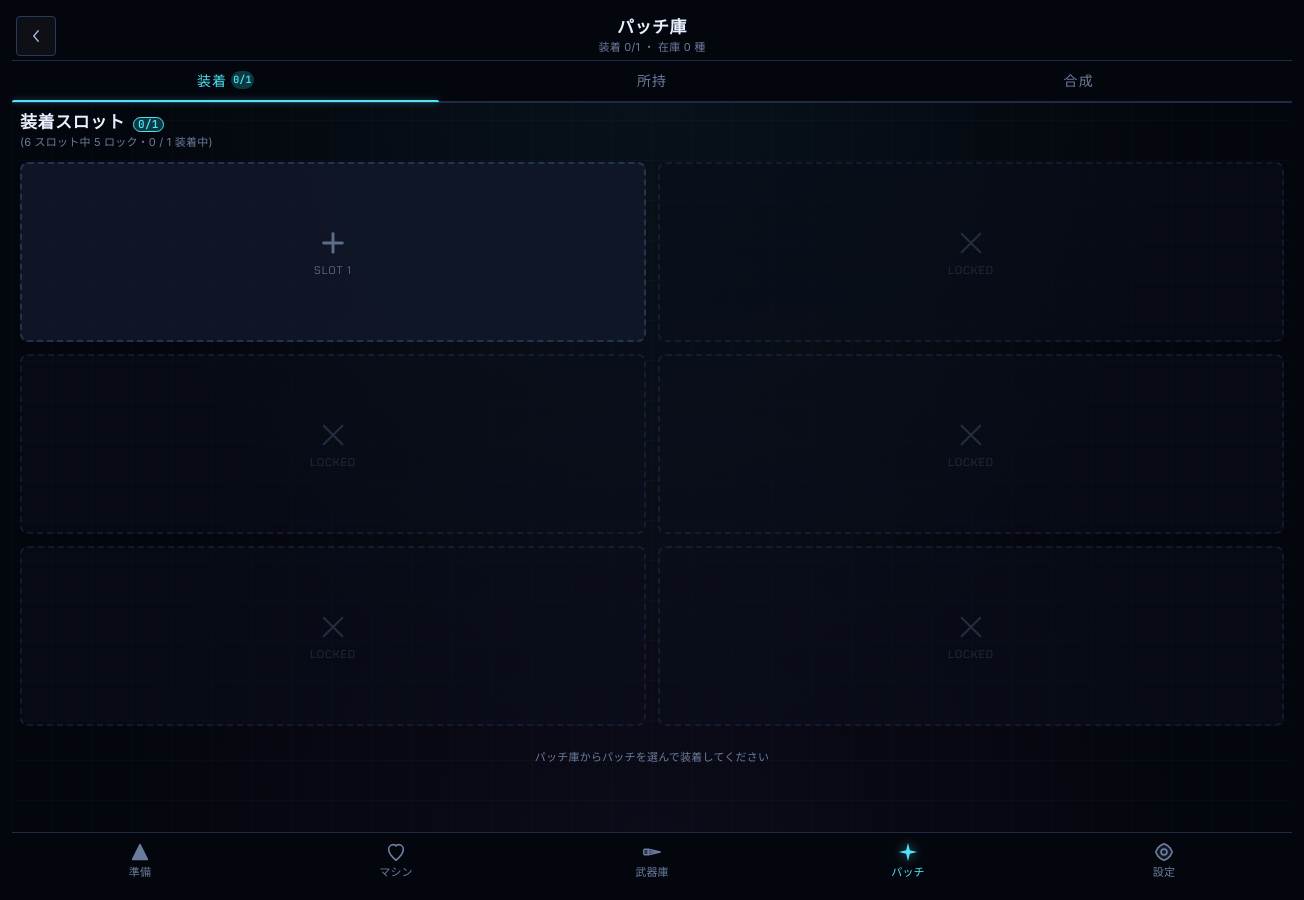
Scenario: PatchScreen › タブ切替 › 「装着」タブに戻すと「装着スロット」が再表示される
# 所持タブに移動してから装着に戻る
Click the tab "所持" at (652,81), box [439,61,865,101]
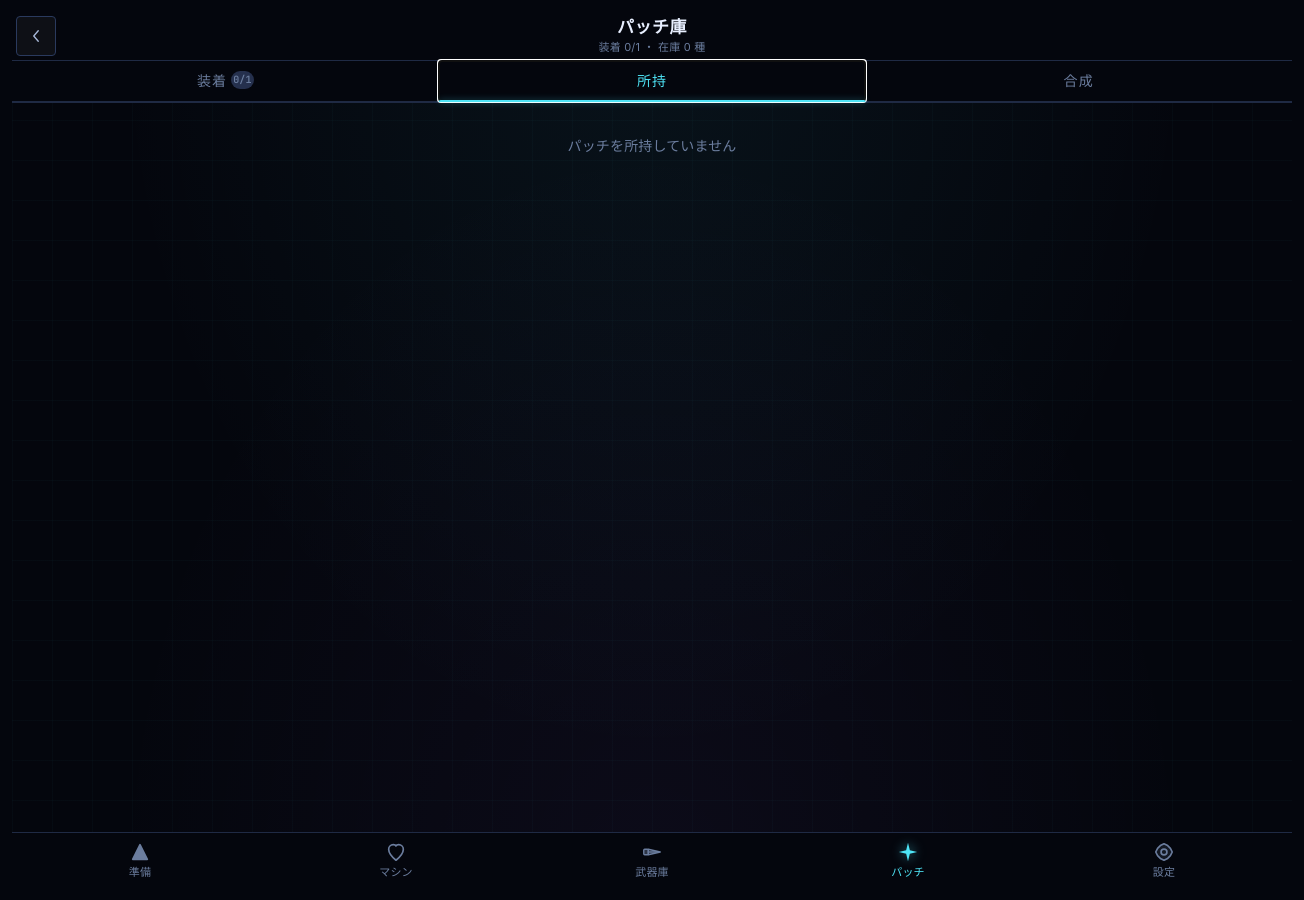
Click the tab "装着 0/1" at (225,81), box [12,61,439,101]
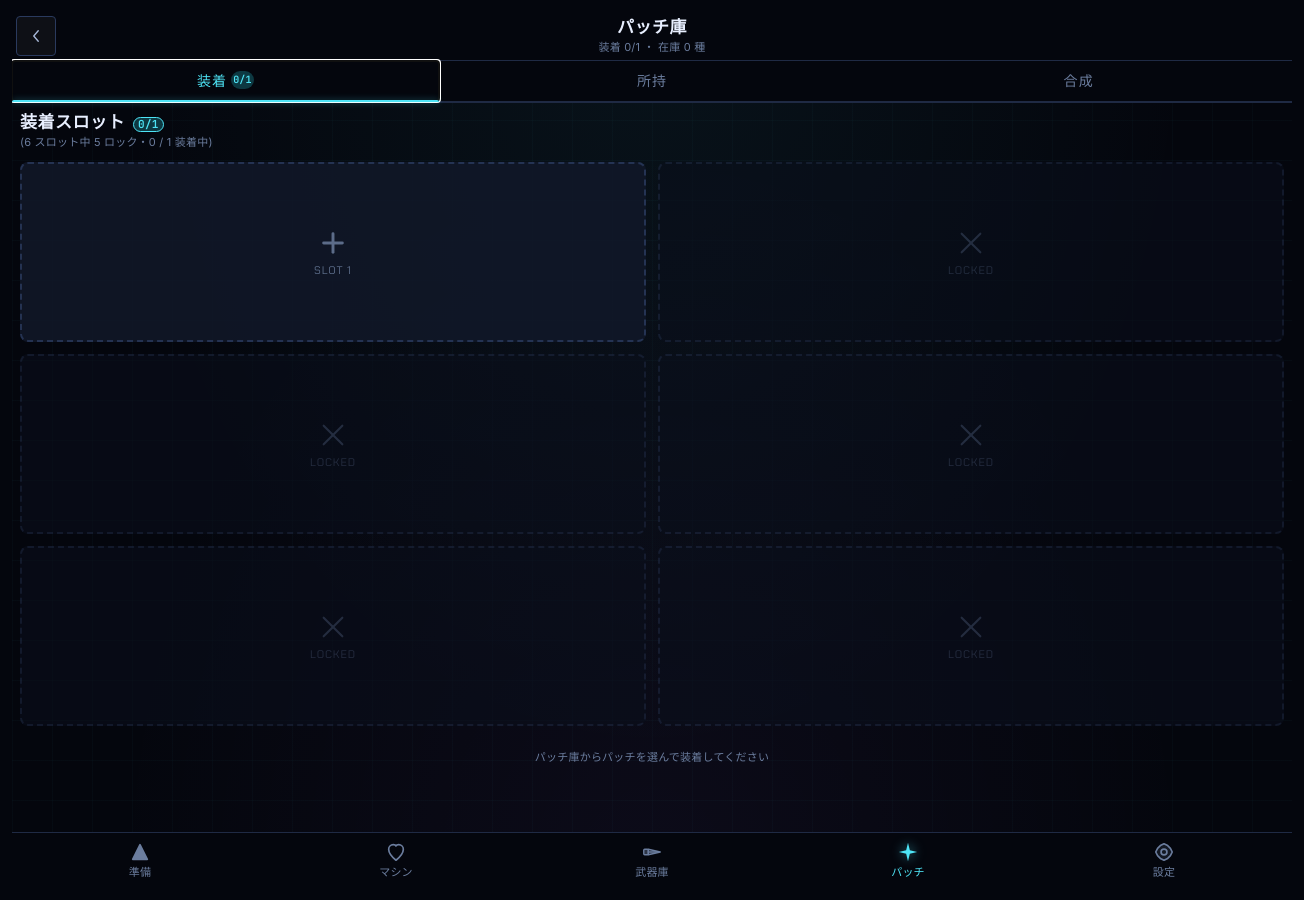
Expected: the heading "装着スロット" is shown, [20,111,125,133]
